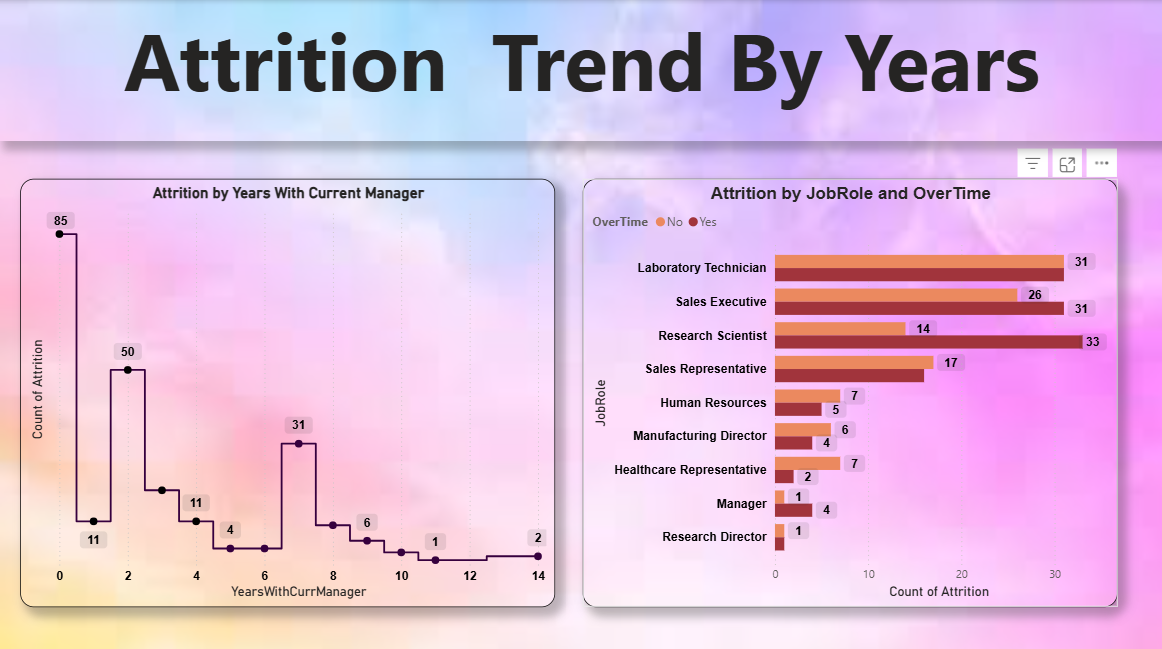

What the dashboard file says about the page in this screenshot:
{"tool":"powerbi","page":{"name":"Dashboard 3","canvas":[1280,720],"ordinal":2},"visuals":[{"type":"lineChart","title":"Attrition by Years With Current Manager","fields":{"Category":["Attrition.YearsWithCurrManager"],"Y":["CountNonNull(Attrition.Attrition)"]},"box":[23.3,196.2,587.2,470.6],"z":0},{"type":"clusteredBarChart","title":"Attrition by JobRole and OverTime","fields":{"Y":["CountNonNull(Attrition.Attrition)"],"Category":["Attrition.JobRole"],"Series":["Attrition.OverTime"]},"box":[640.7,196.2,587.2,470.6],"z":1000},{"type":"textbox","box":[0,0,1280,155],"z":2000}]}

Visuals, with their boxes in screenshot pixels (x1, y1, x2, y2), scaled from the page's 1280x720 canvas onto the 1162x649 screenshot:
"Attrition by Years With Current Manager" lineChart: BBox(21, 177, 554, 601)
"Attrition by JobRole and OverTime" clusteredBarChart: BBox(582, 177, 1115, 601)
textbox: BBox(0, 0, 1161, 140)
